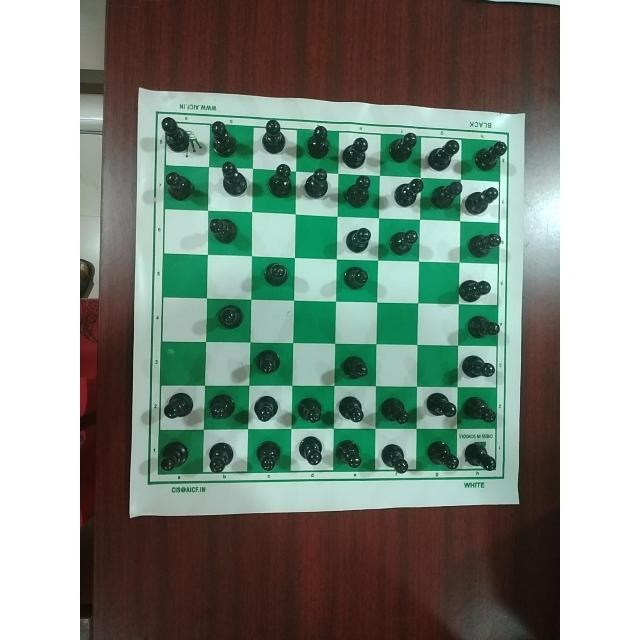black-pawn: (156, 106, 196, 153), (211, 162, 252, 204), (202, 114, 241, 158), (341, 170, 377, 216), (160, 165, 199, 206), (256, 112, 292, 156), (422, 383, 458, 427), (255, 255, 295, 294), (456, 267, 495, 307), (342, 126, 377, 170), (296, 387, 335, 426), (376, 386, 414, 426), (376, 440, 416, 478), (302, 116, 334, 163), (470, 137, 509, 174), (208, 297, 247, 334), (335, 387, 372, 426), (464, 307, 504, 343), (462, 391, 502, 427), (464, 227, 503, 263), (155, 436, 191, 475), (386, 220, 421, 260), (457, 350, 498, 384), (338, 346, 375, 383), (387, 126, 421, 166), (263, 162, 297, 202), (390, 174, 424, 214), (204, 438, 240, 475), (333, 434, 367, 473), (297, 429, 327, 473), (427, 131, 458, 173), (251, 390, 287, 426), (424, 434, 460, 470), (463, 439, 498, 476), (340, 260, 372, 299), (466, 182, 502, 216), (255, 436, 284, 477), (206, 211, 239, 247), (253, 346, 287, 380), (161, 391, 195, 425), (204, 391, 241, 422), (341, 221, 374, 255), (304, 165, 332, 204), (433, 177, 461, 209)
